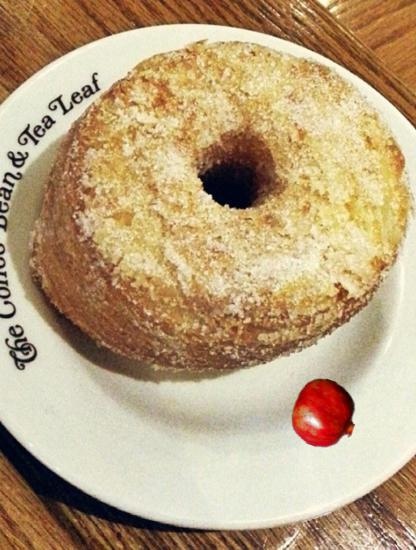Pomegranate: (291, 380, 360, 449)
